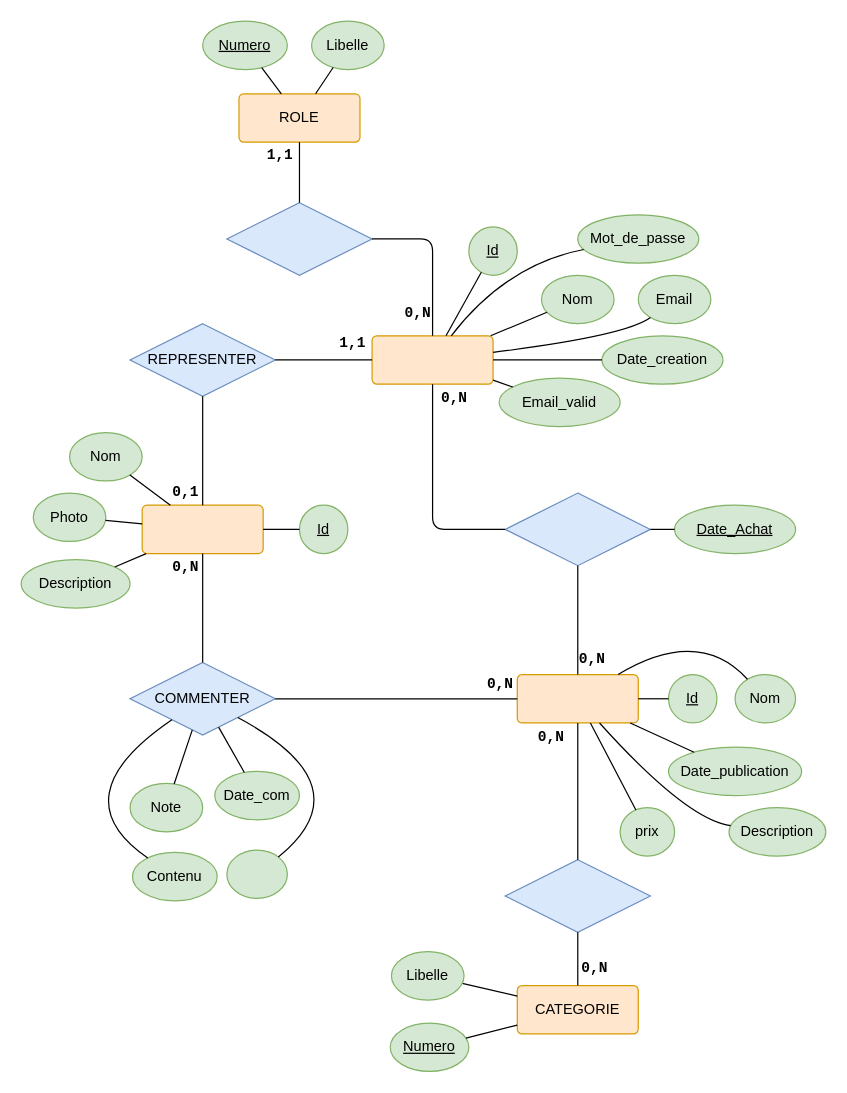
This 847x1093 diagram has some shape labels left out. Here are the shapes that lost their labels. From the top down, the centre of each, then its label:
At pixel 299 238: "PROMOUVOIR".
At pixel 432 359: "UTILISATEUR".
At pixel 202 529: "PROFIL".
At pixel 577 529: "ACHETER".
At pixel 577 698: "APPLICATION".
At pixel 256 873: "Titre".
At pixel 577 895: "APPARTENIR".
